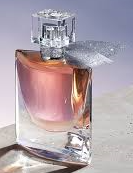lancome_la_vie_est_belle: (12, 7, 127, 169)
